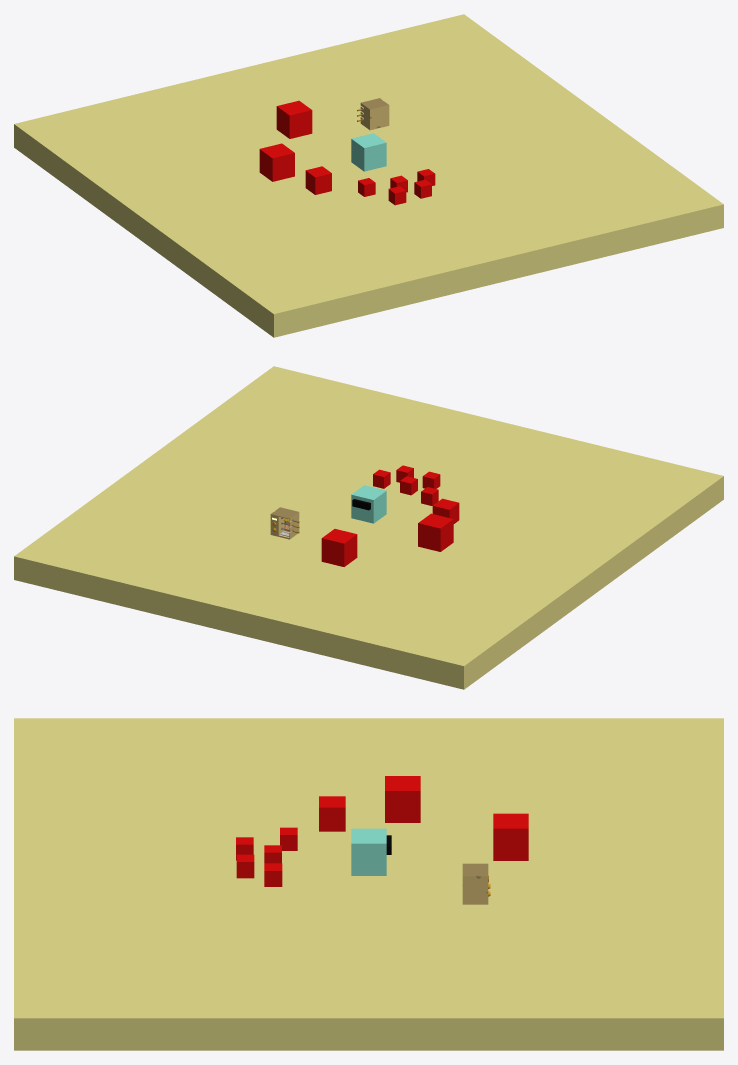
File: inventory_test.glb
The picture shows the model from 3 angles, top to bottom: view 1: azimuth 30°, elevation 25°; view 2: azimuth 150°, elevation 25°; view 3: azimuth 270°, elevation 25°; orthographic projection. The views are drawn at different scales.
Visible parts, largest first — view 1: Floor, Interactable, Player, Interactable.001, Machine Body, Interactable.002; view 2: Floor, Interactable, Player, Interactable.001, Machine Body; view 3: Floor, Player, Interactable, Interactable.001, Machine Body, Interactable.002.
Part boxes in pixels (x1,y1,x2,y2): Floor: (14,14,723,337); Interactable: (276,100,312,138); Player: (351,133,386,171); Interactable.001: (259,143,294,181); Machine Body: (360,98,389,130); Interactable.002: (305,166,331,194); Floor: (14,366,723,689); Interactable: (321,529,357,566); Player: (351,485,386,523); Interactable.001: (418,513,453,551); Machine Body: (270,507,299,539); Floor: (14,718,723,1050); Player: (351,828,391,875); Interactable: (493,813,528,860); Interactable.001: (385,776,420,822); Machine Body: (462,863,488,904); Interactable.002: (319,796,345,831).
Bounding box in the file's own units: 20 × 2 × 20.
